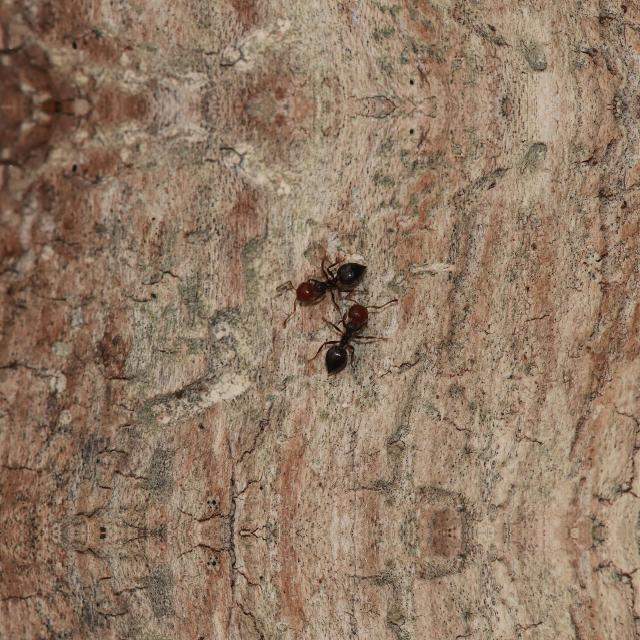Crematogaster: (285, 248, 381, 314), (319, 296, 381, 374)
